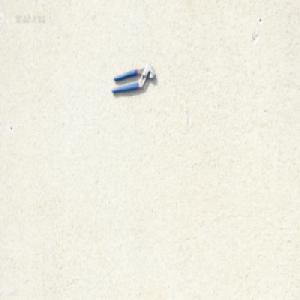Pliers: (110, 63, 156, 94)
